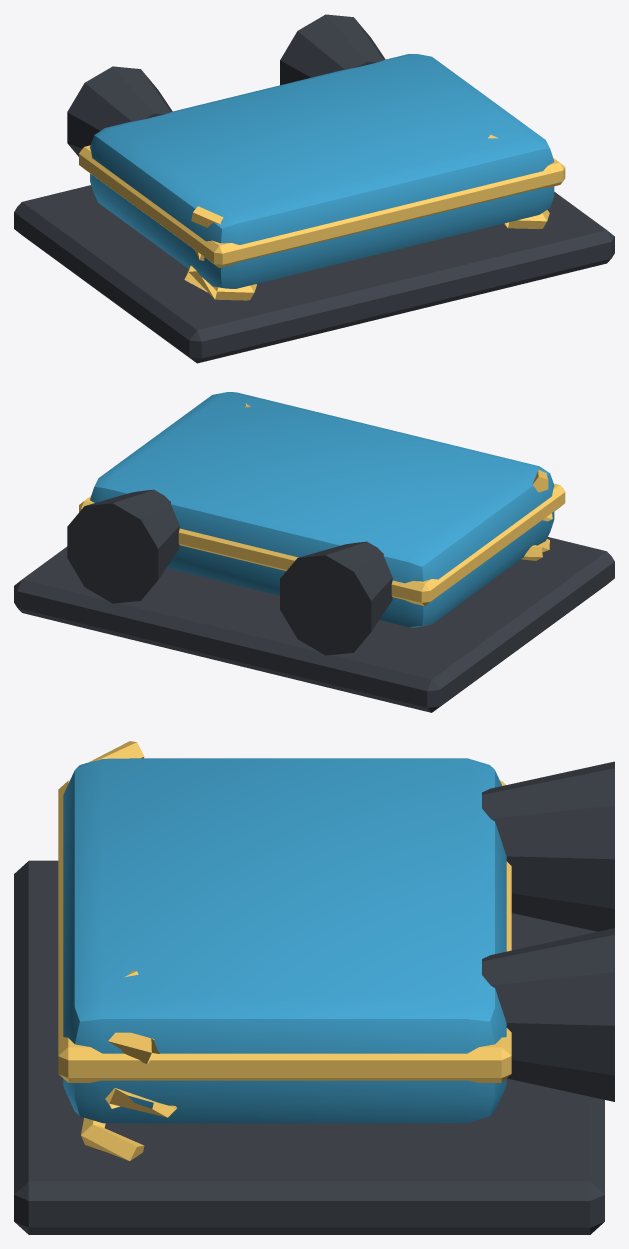
The model's file is jump-unit.glb.
3 views of the same model, one above another, from view 1: azimuth 30°, elevation 25°; view 2: azimuth 150°, elevation 25°; view 3: azimuth 270°, elevation 25° (orthographic). The views are drawn at different scales.
Parts seen in each view (by area): view 1: jump-unit; view 2: jump-unit; view 3: jump-unit.
Boxes of the visible parts, x1,y1,x2,y2 form: jump-unit: (14,14,614,363); jump-unit: (14,392,614,712); jump-unit: (14,741,614,1234).
Size of the model in its own units: 1.6 by 0.5 by 1.22.
